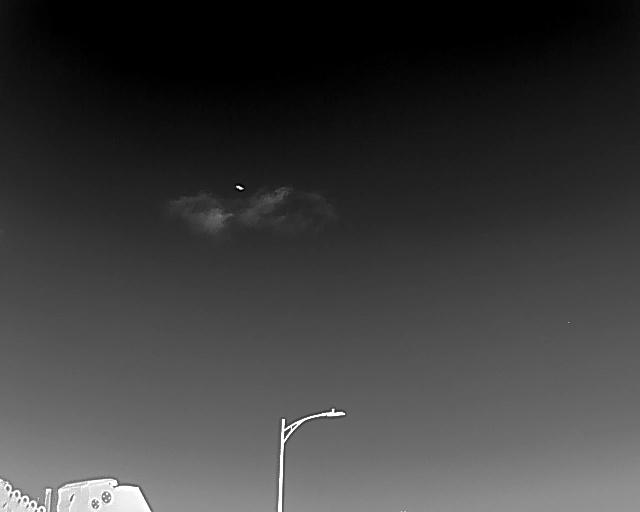fpv-drone: (235, 185, 243, 190)
